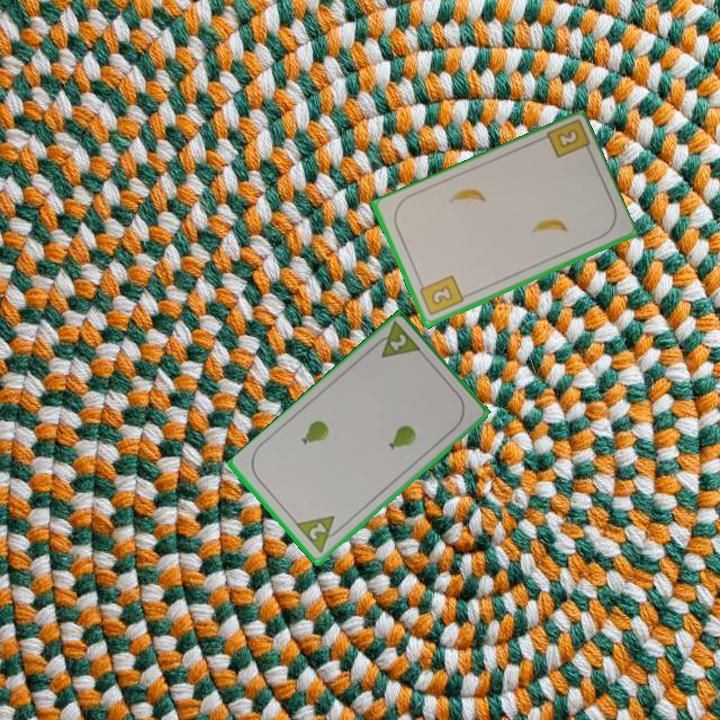2b: (415, 272, 466, 319), (542, 118, 595, 161)
2p: (368, 319, 425, 361), (305, 519, 329, 543)
